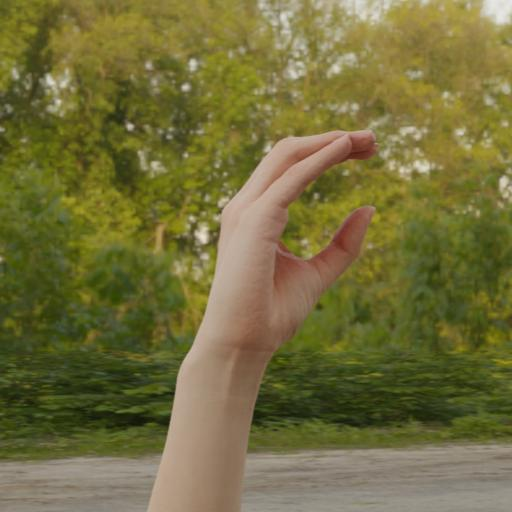C: (194, 117, 384, 348)
